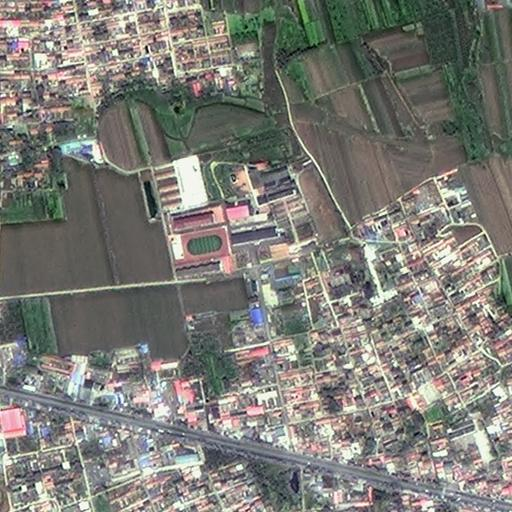school: (151, 159, 312, 272)
